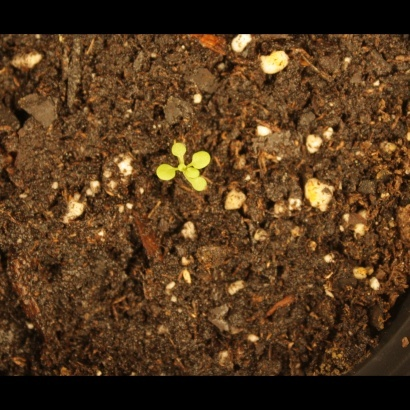leaf: (166, 137, 189, 160), (155, 165, 178, 188), (188, 176, 211, 199), (192, 149, 215, 172), (182, 163, 205, 186)
